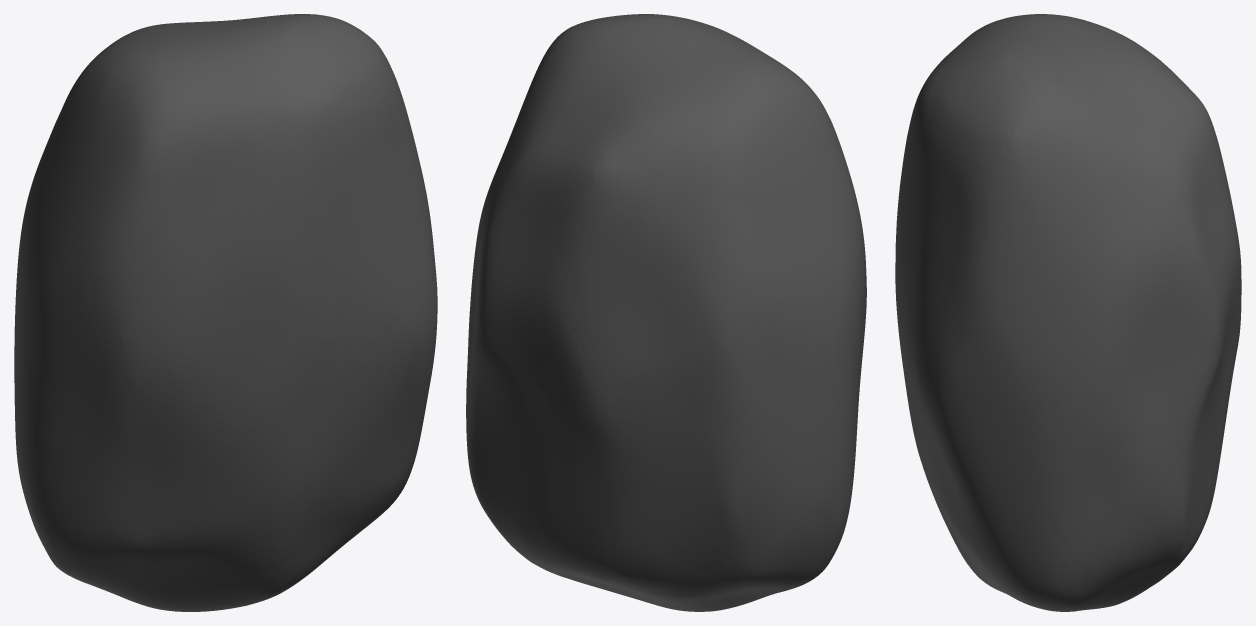
File: stone1.fbx
The picture shows the model from 3 angles, left to right: view 1: azimuth 30°, elevation 25°; view 2: azimuth 150°, elevation 25°; view 3: azimuth 270°, elevation 25°; orthographic projection. The views are drawn at different scales.
Visible parts, largest first — view 1: Cube; view 2: Cube; view 3: Cube.
Part boxes in pixels (<box>): Cube: <box>14,14,437,611</box>; Cube: <box>466,14,866,611</box>; Cube: <box>895,14,1241,611</box>.
Size of the model in its own units: 8.5 by 12.47 by 7.04.
